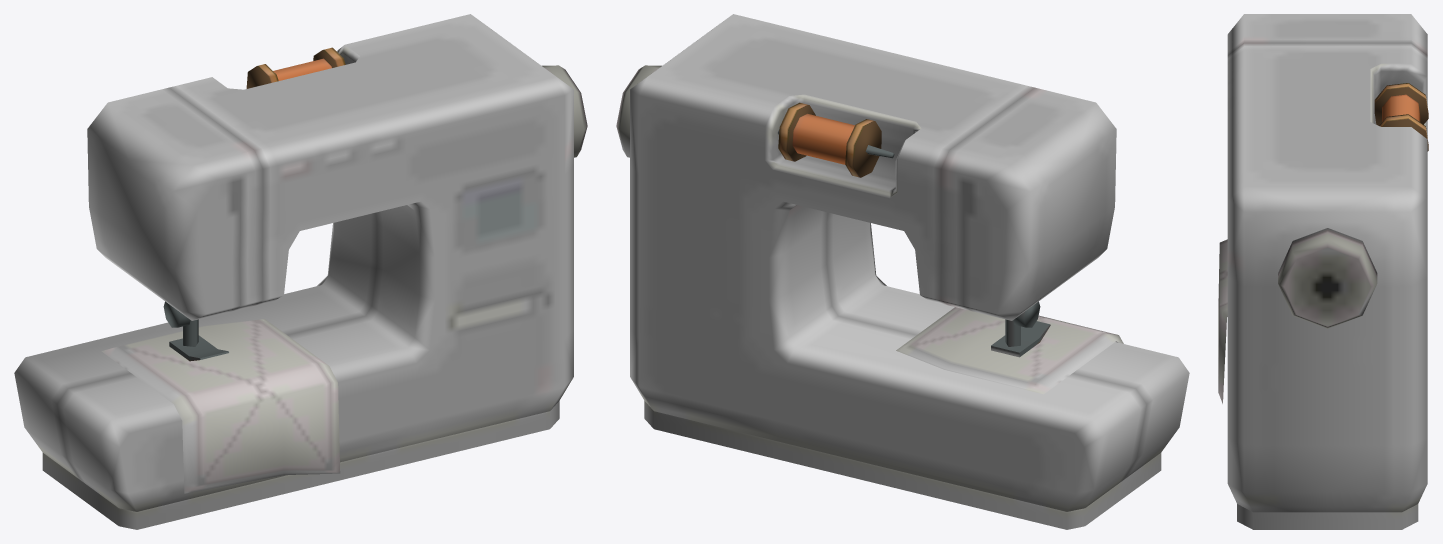
Rendered from int_oth_sewingN.dae.
3 renders of one model, left to right at view 1: azimuth 30°, elevation 25°; view 2: azimuth 150°, elevation 25°; view 3: azimuth 270°, elevation 25°, orthographic. The views are drawn at different scales.
Parts seen in each view (by area): view 1: int_oth_sewingN; view 2: int_oth_sewingN; view 3: int_oth_sewingN.
Part boxes in pixels (x1=…): int_oth_sewingN: x1=14, y1=14, x2=587, y2=529; int_oth_sewingN: x1=616, y1=14, x2=1189, y2=529; int_oth_sewingN: x1=1218, y1=14, x2=1428, y2=529.
Size of the model in its own units: 28.9 by 18.96 by 10.62.
1 material, 1 textured.
